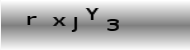3: (105, 18, 120, 32)
J: (70, 16, 79, 32)
Y: (84, 6, 100, 21)
r: (25, 15, 38, 26)
x: (51, 16, 66, 27)
